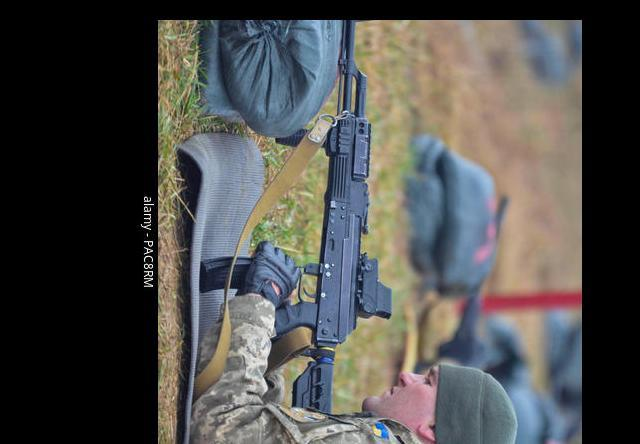larga: (201, 21, 392, 414)
